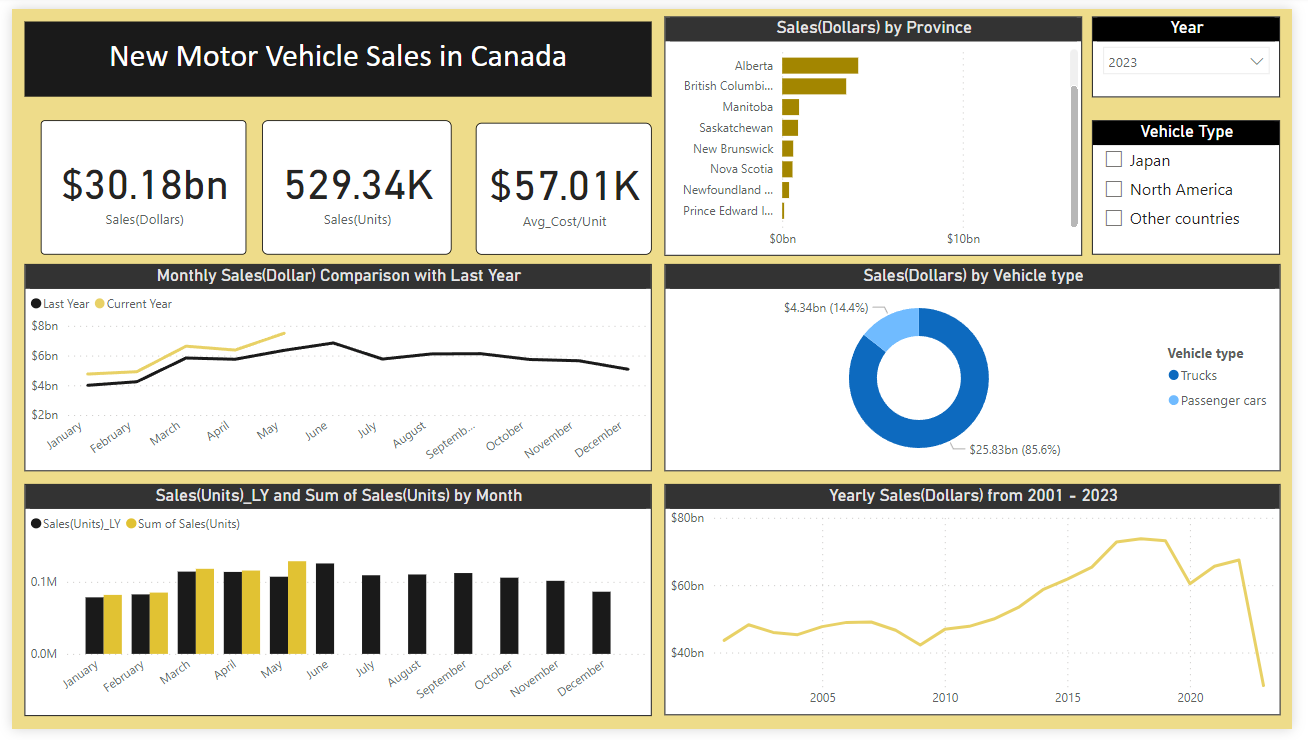

The dashboard page shown, as its layout file describes it:
{"tool":"powerbi","page":{"name":"Page 1","canvas":[1280,720],"ordinal":0},"visuals":[{"type":"card","fields":{"Values":["Sum(CanadaVehiclesSales.Sales(Dollars))"]},"box":[28.6,111.9,205.9,134.5],"z":0},{"type":"card","fields":{"Values":["Sum(CanadaVehiclesSales.Sales(Units))"]},"box":[249.9,111.9,189.2,134.5],"z":1000},{"type":"slicer","title":"Year","fields":{"Values":["CanadaVehiclesSales.REF_DATE.Variation.Date Hierarchy.Year"]},"box":[1080.6,7.2,188.1,80.8],"z":2000},{"type":"lineChart","title":"Yearly Sales(Dollars) from 2001 - 2023","fields":{"Y":["Sum(CanadaVehiclesSales.Sales(Dollars))"],"Category":["CanadaVehiclesSales.REF_DATE.Variation.Date Hierarchy.Year"]},"box":[652.5,475.2,616.3,231.6],"z":3000},{"type":"lineChart","title":"Monthly Sales(Dollar) Comparison with Last Year","fields":{"Category":["CanadaVehiclesSales.REF_DATE.Variation.Date Hierarchy.Month"],"Y":["CanadaVehiclesSales.Sales(Dollars)_LY","Sum(CanadaVehiclesSales.Sales(Dollars))"]},"box":[13.1,254.7,627.2,207.1],"z":4000},{"type":"clusteredColumnChart","fields":{"Y":["CanadaVehiclesSales.Sales(Units)_LY","Sum(CanadaVehiclesSales.Sales(Units))"],"Category":["CanadaVehiclesSales.REF_DATE.Variation.Date Hierarchy.Month"]},"box":[13.1,474.8,627.2,232.1],"z":5000},{"type":"clusteredBarChart","title":"Sales(Dollars) by Province","fields":{"Category":["CanadaVehiclesSales.GEO"],"Y":["Sum(CanadaVehiclesSales.Sales(Dollars))"]},"box":[652.2,7.1,417.7,239.2],"z":6000},{"type":"donutChart","title":"Sales(Dollars) by Vehicle type","fields":{"Y":["Sum(CanadaVehiclesSales.Sales(Dollars))"],"Category":["CanadaVehiclesSales.Vehicle type"]},"box":[652.5,254.5,616.3,207.4],"z":7000},{"type":"card","fields":{"Values":["CanadaVehiclesSales.Avg_Cost/Unit"]},"box":[464.1,114.2,176.1,132.1],"z":8000},{"type":"slicer","title":"Vehicle Type","fields":{"Values":["CanadaVehiclesSales.Origin of manufacture"]},"box":[1080.6,111.9,188,134.5],"z":9000},{"type":"textbox","box":[13.1,13.1,627.2,75],"z":10000}]}

Visuals, with their boxes in screenshot pixels (x1, y1, x2, y2), scaled from the page's 1280x720 canvas onto the 1308x740 screenshot:
card - Sum(CanadaVehiclesSales.Sales(Dollars)): pyautogui.locateOnScreen(29, 115, 240, 253)
card - Sum(CanadaVehiclesSales.Sales(Units)): pyautogui.locateOnScreen(255, 115, 449, 253)
"Year" slicer: pyautogui.locateOnScreen(1104, 7, 1296, 90)
"Yearly Sales(Dollars) from 2001 - 2023" lineChart: pyautogui.locateOnScreen(667, 488, 1297, 726)
"Monthly Sales(Dollar) Comparison with Last Year" lineChart: pyautogui.locateOnScreen(13, 262, 654, 475)
clusteredColumnChart - CanadaVehiclesSales.Sales(Units)_LY x Sum(CanadaVehiclesSales.Sales(Units)): pyautogui.locateOnScreen(13, 488, 654, 727)
"Sales(Dollars) by Province" clusteredBarChart: pyautogui.locateOnScreen(666, 7, 1093, 253)
"Sales(Dollars) by Vehicle type" donutChart: pyautogui.locateOnScreen(667, 262, 1297, 475)
card - CanadaVehiclesSales.Avg_Cost/Unit: pyautogui.locateOnScreen(474, 117, 654, 253)
"Vehicle Type" slicer: pyautogui.locateOnScreen(1104, 115, 1296, 253)
textbox: pyautogui.locateOnScreen(13, 13, 654, 91)
